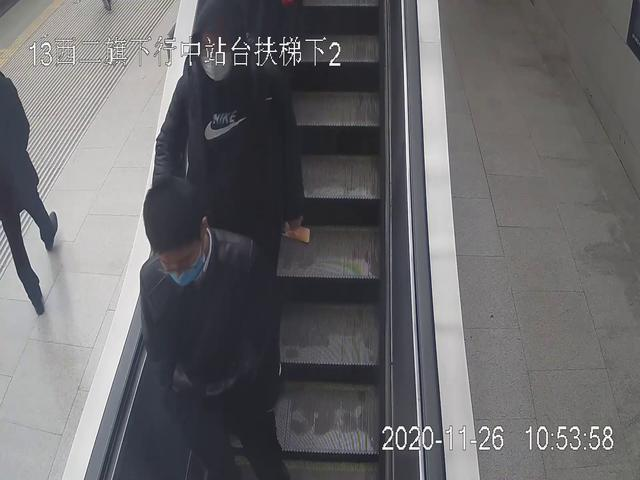person: (151, 1, 303, 408), (140, 180, 285, 480)
